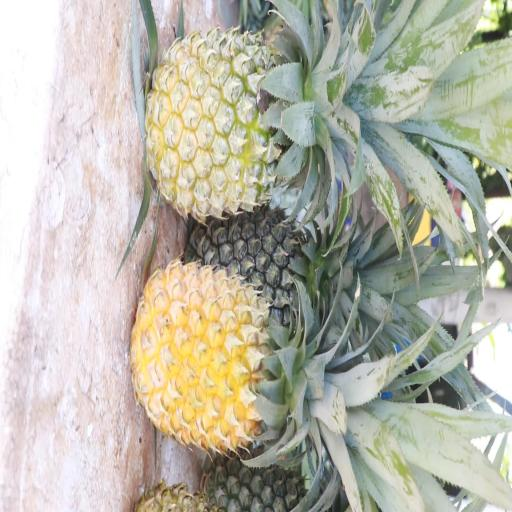------------------------------: (146, 28, 336, 212)
Pineapple - v8 v1: (130, 262, 321, 452)
